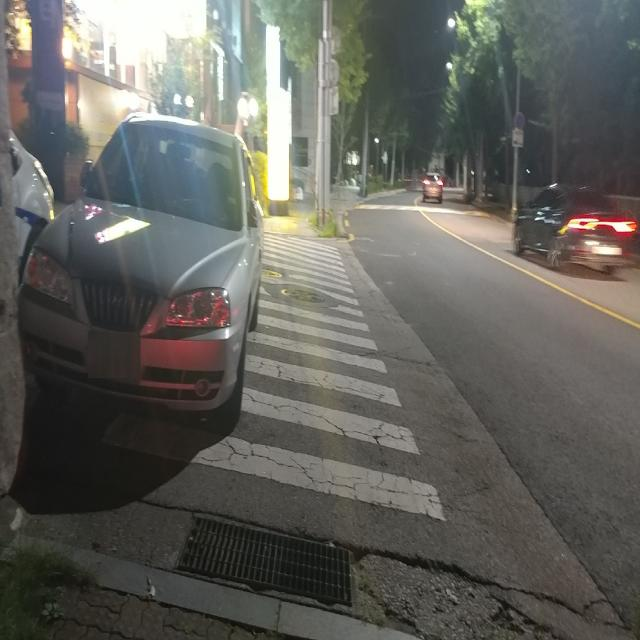횡단보도: (99, 233, 445, 520)
